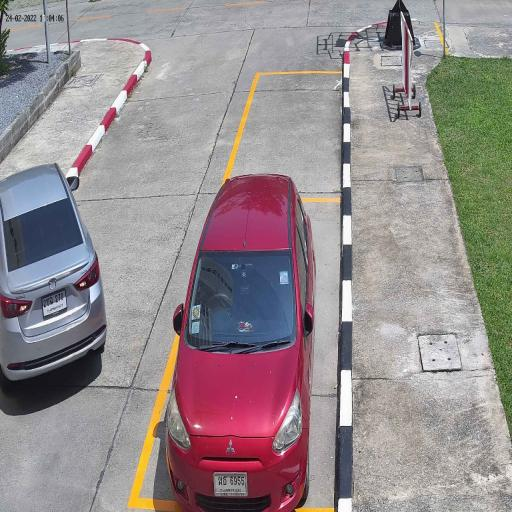car: (164, 170, 318, 512), (0, 160, 108, 387)
